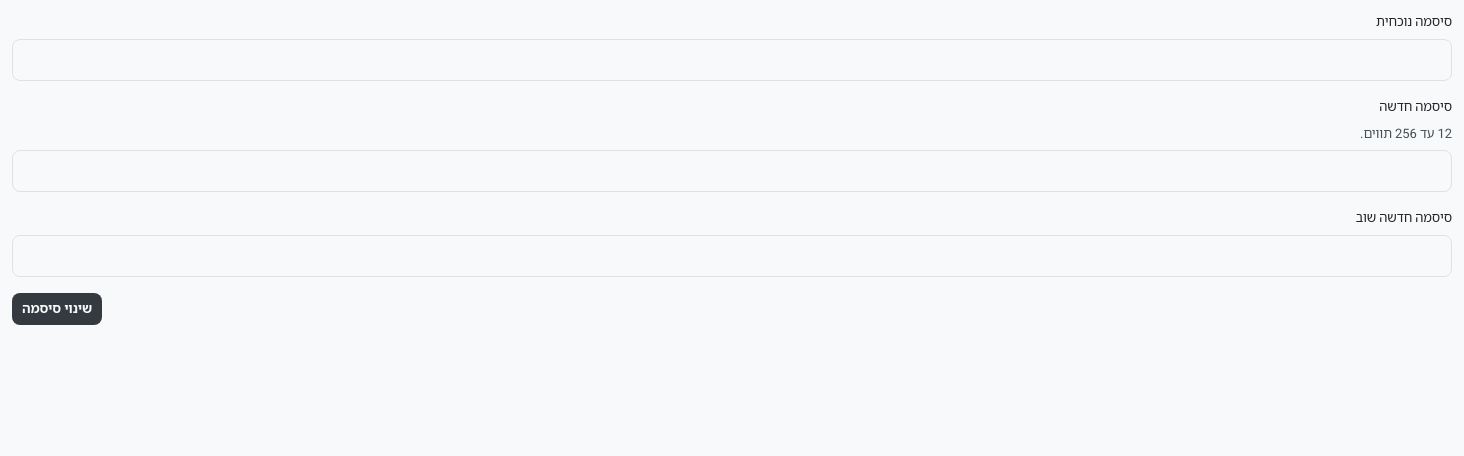
changing the password › sends the current and new password and reports the other sessions ended
Type "old password here" into the password field labelled "סיסמה נוכחית" at (732, 60), box [12,39,1452,81]
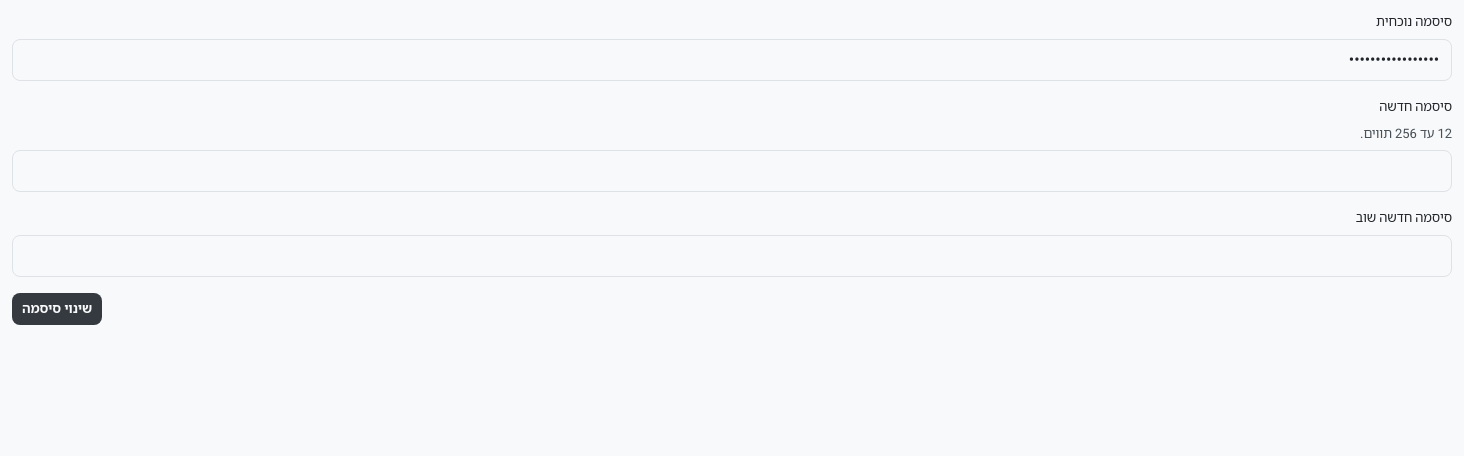
Type "new password here" into the password field labelled "סיסמה חדשה" at (732, 171), box [12,150,1452,192]
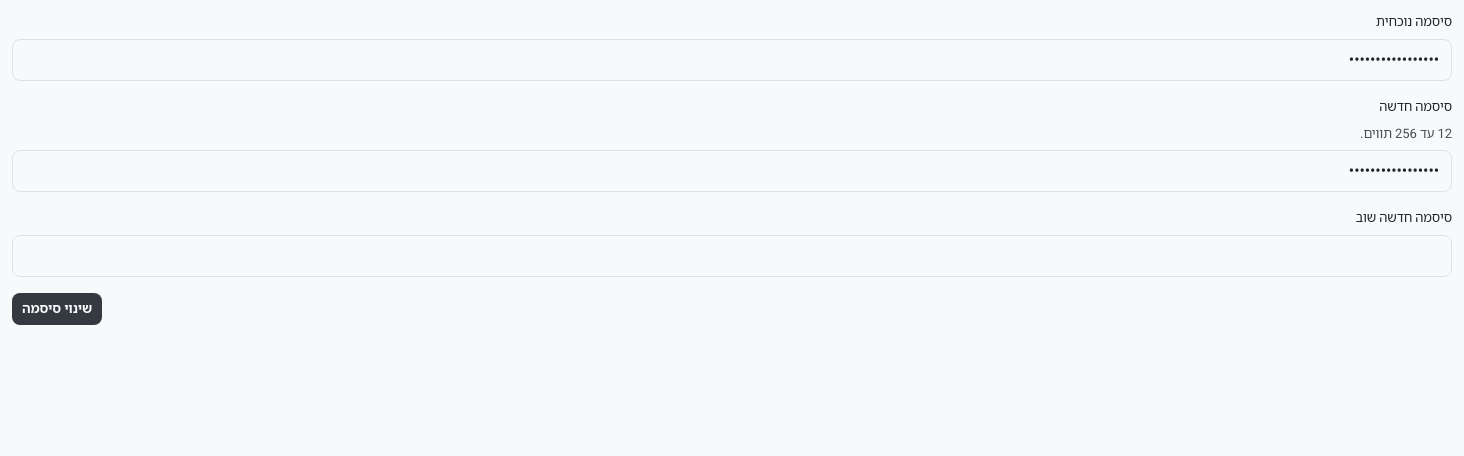
Type "new password here" into the password field labelled "סיסמה חדשה שוב" at (732, 256), box [12,235,1452,277]
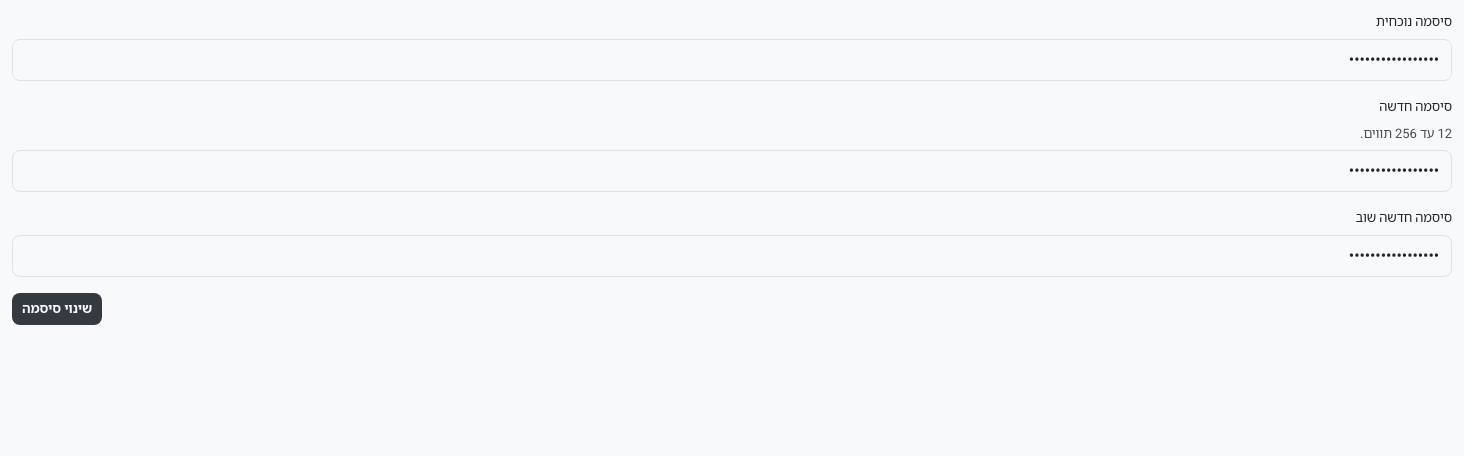
Click the button "שינוי סיסמה" at (57, 309), box [12,293,102,325]
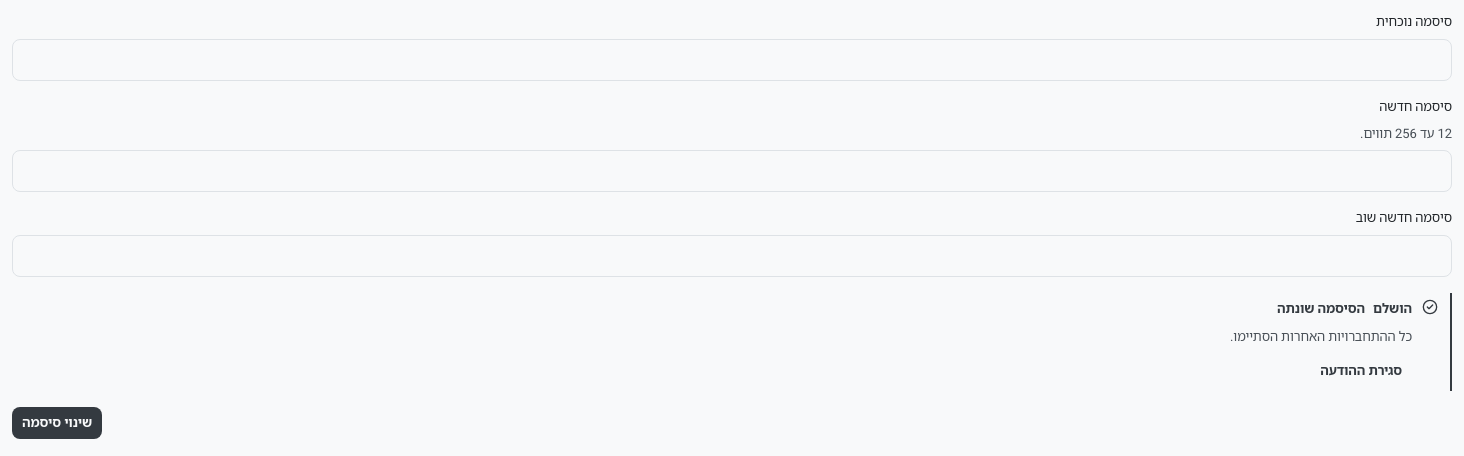
Result: the text "כל ההתחברויות האחרות הסתיימו." is shown at [1230,327,1412,346]
